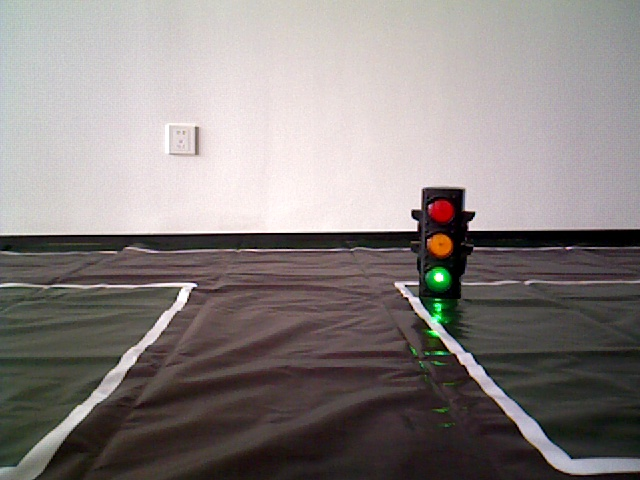green: (420, 188, 457, 294)
